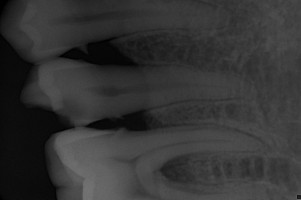Endo-Periodontal Lesion: (160, 154, 200, 185)
